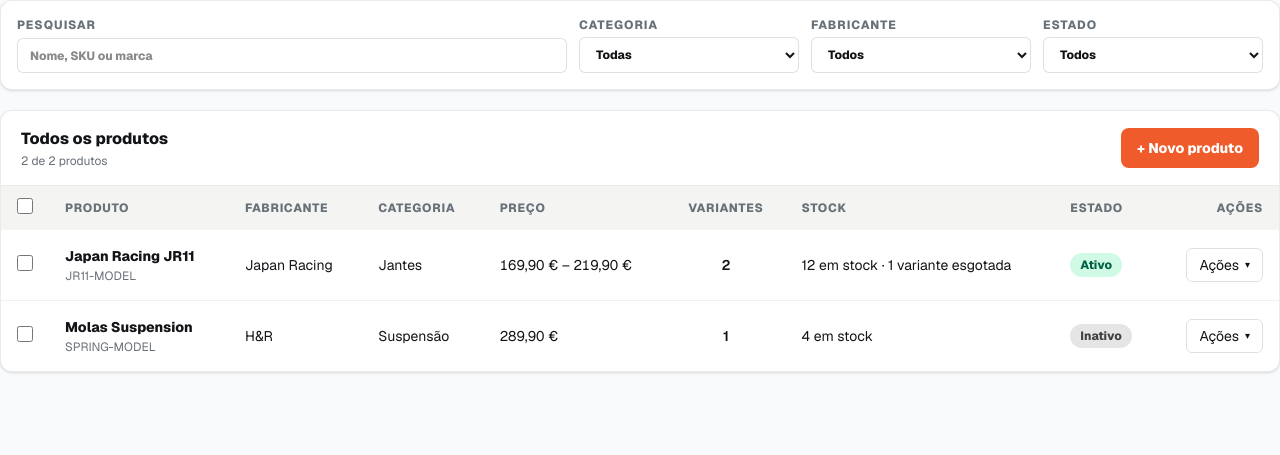
it: ProductsClient › confirma e elimina um produto, removendo-o da lista
expect the heading "Todos os produtos" is shown: met, box 21,127 -> 168,151
Click the button named "Ações para Japan Racing JR11": [1225, 265] box 1186,248 -> 1263,282
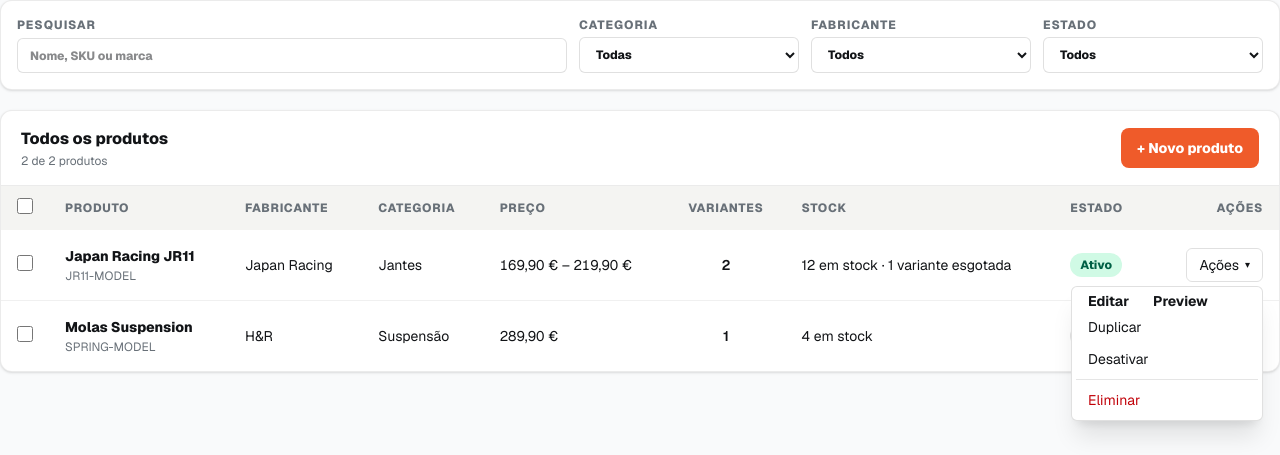
Click the menu item "Eliminar": [1167, 400] box 1076,384 -> 1258,416
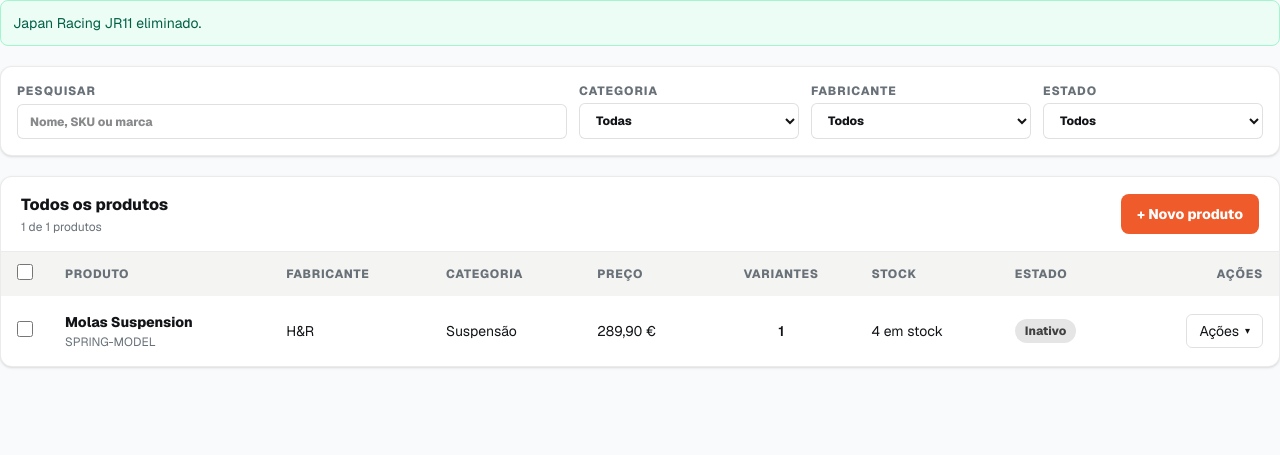
expect the text "Japan Racing JR11 eliminado." is shown: met, box 0,0 -> 1279,46
